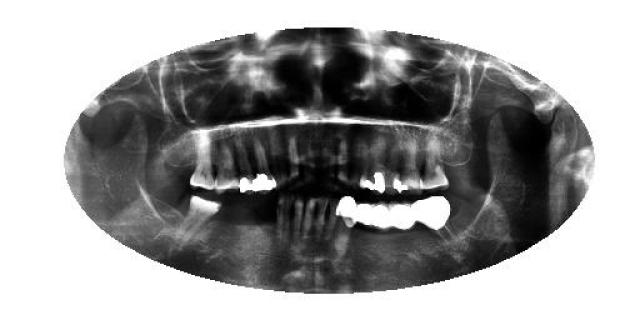Fillings: (414, 194, 455, 244), (359, 136, 385, 194), (254, 136, 278, 195), (334, 194, 356, 251), (399, 142, 421, 194), (382, 139, 398, 195), (238, 140, 254, 195), (389, 201, 415, 231), (372, 201, 392, 230), (355, 198, 373, 228)
